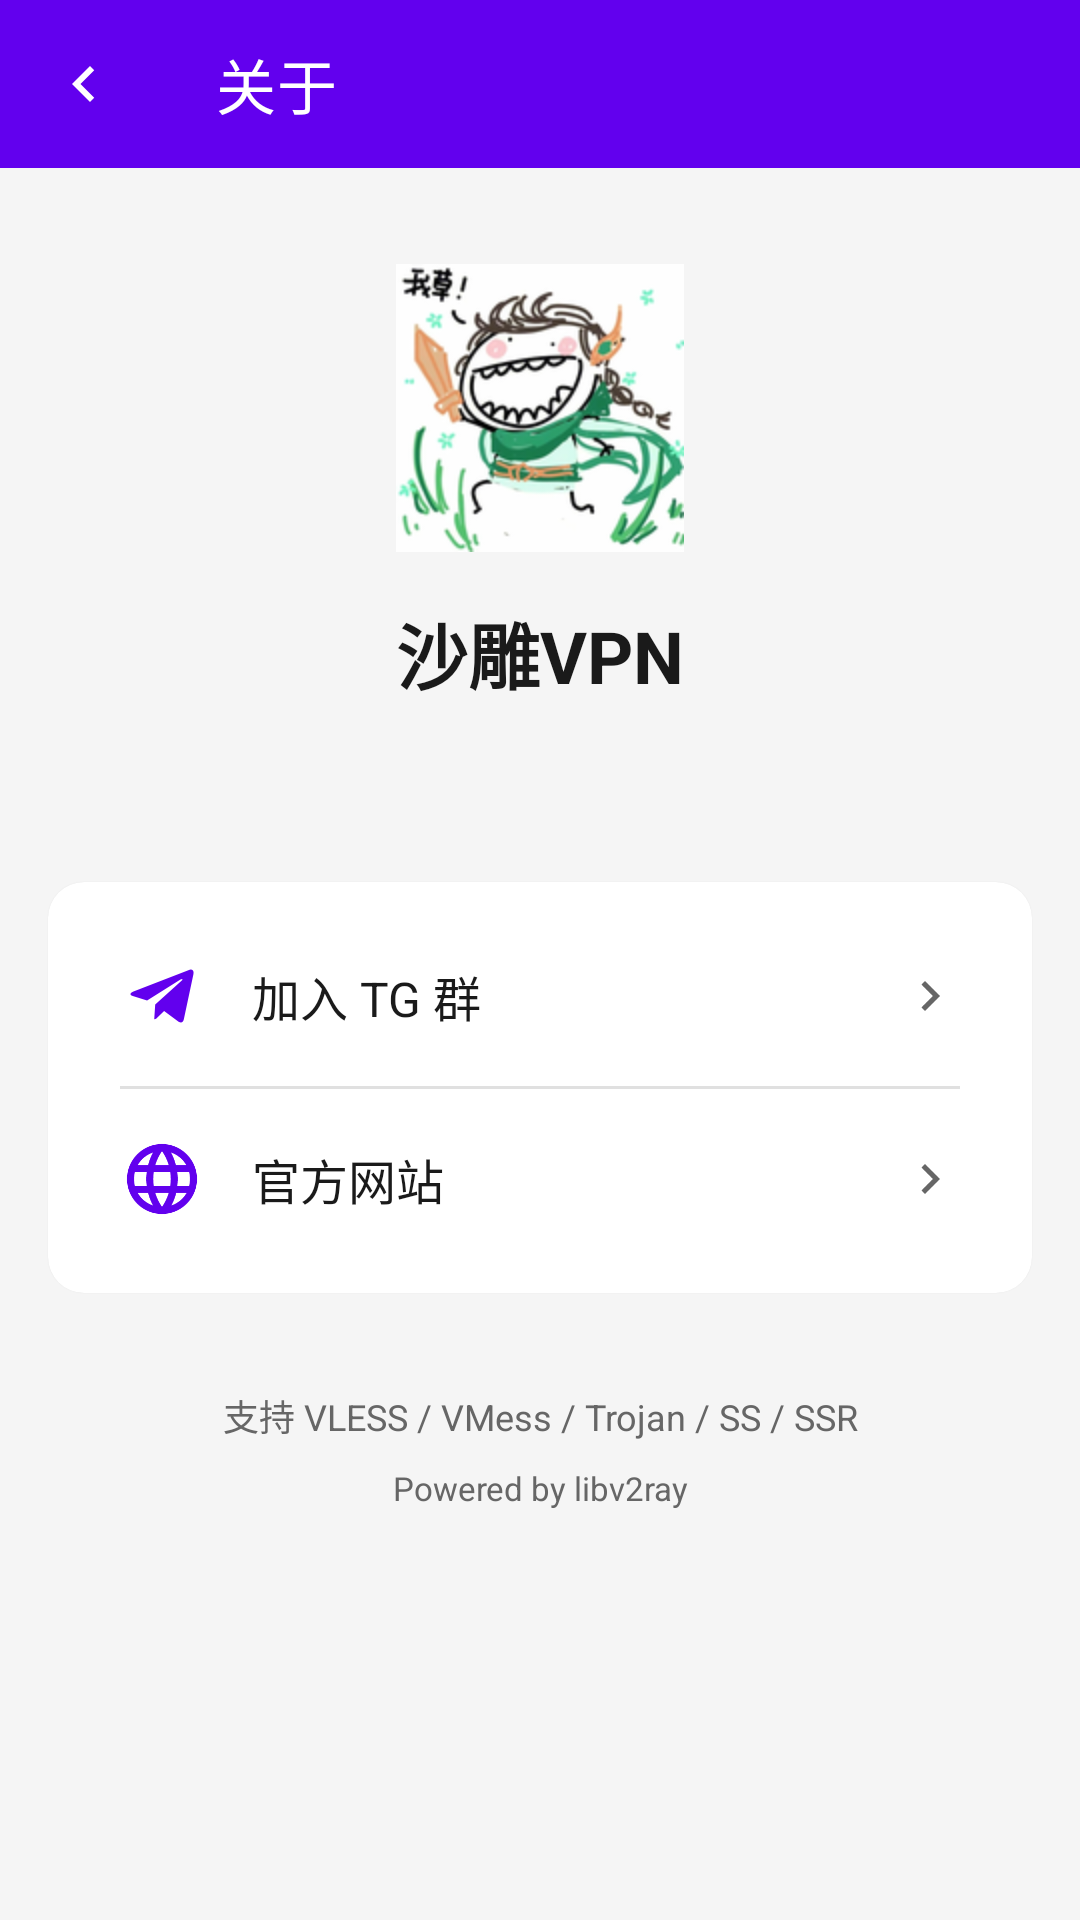

Screen size 1080x1920. Icon name, then its box in pixels as (left=x1, top=y1, right=x2, bottom=y2):
arrow right: (left=921, top=981, right=940, bottom=1011), (left=921, top=1164, right=940, bottom=1194)
web: (left=127, top=1144, right=197, bottom=1214)
